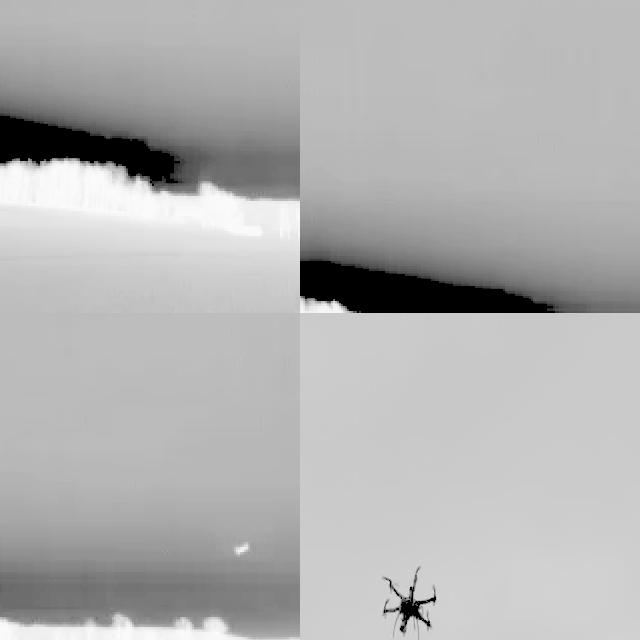1: (222, 536, 262, 570)
drone: (377, 556, 445, 640)
